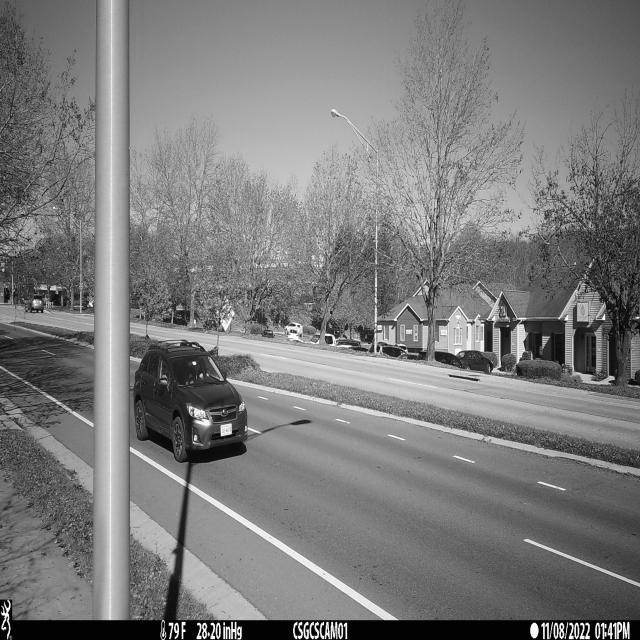SUV: (133, 339, 248, 463)
